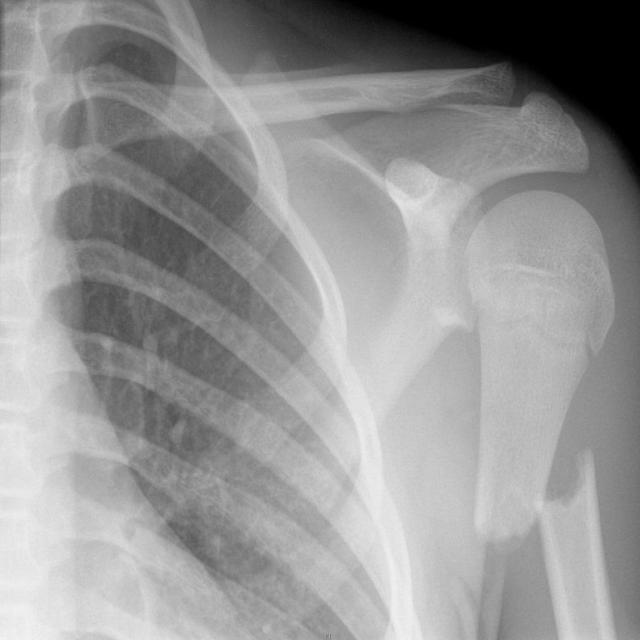fracture: (462, 408, 619, 558), (477, 314, 596, 360)
